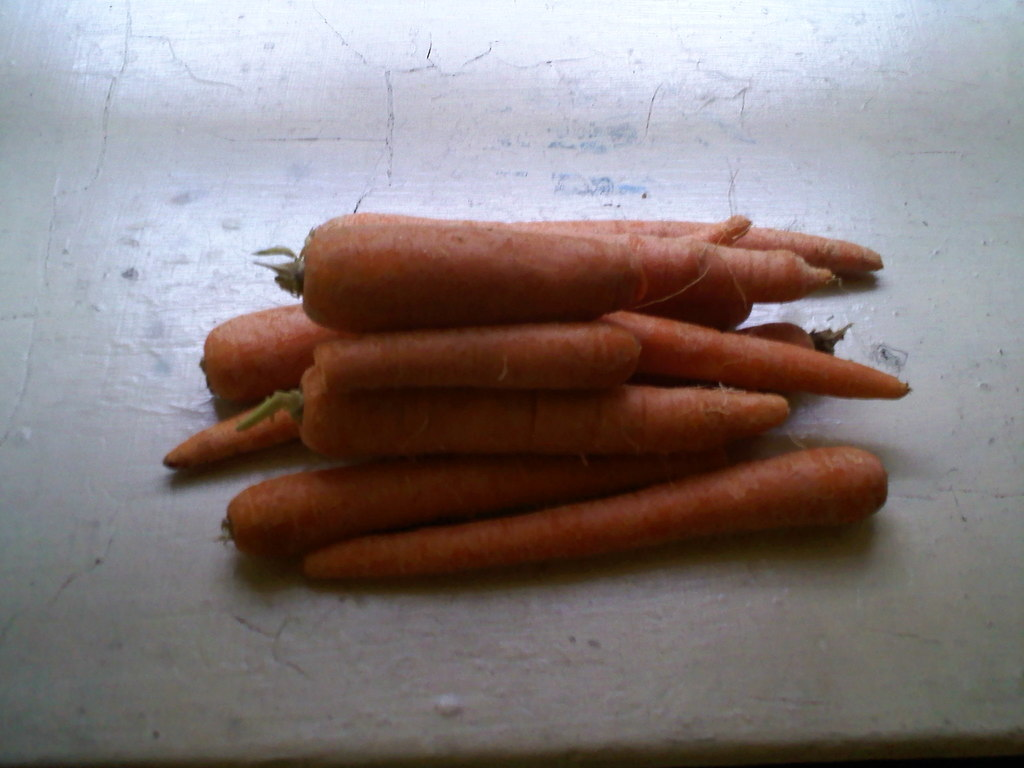Carrot: (162, 212, 912, 582)
